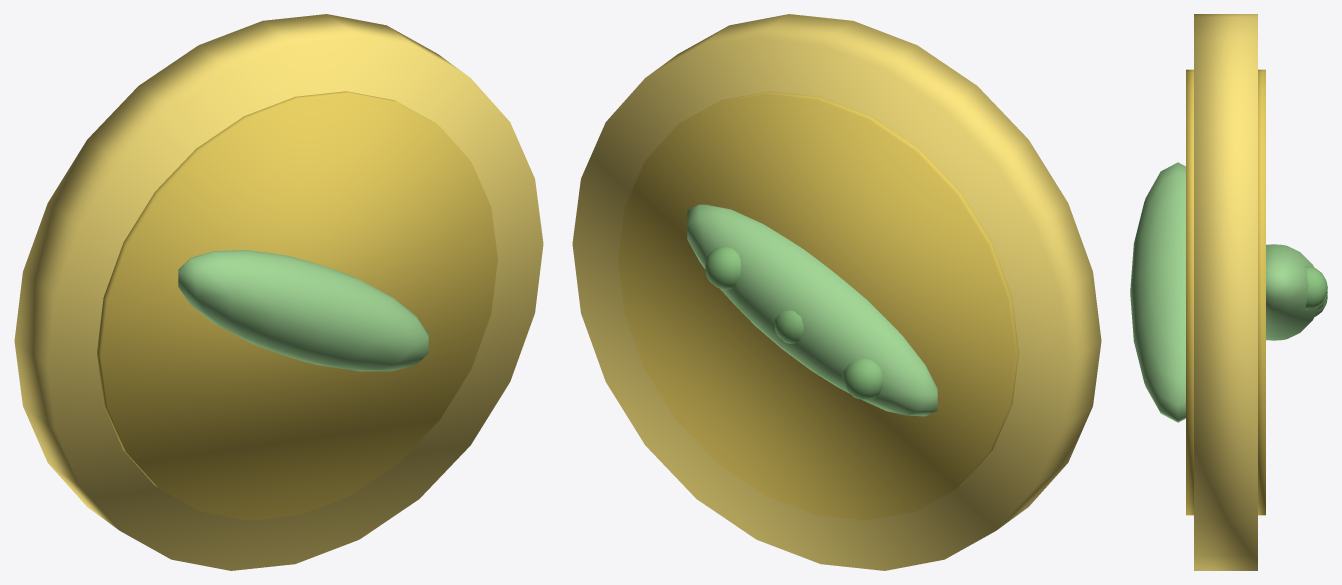
Rendered from RedemptionToken.fbx.
3 renders of one model, left to right at view 1: azimuth 30°, elevation 25°; view 2: azimuth 150°, elevation 25°; view 3: azimuth 270°, elevation 25°, orthographic. The views are drawn at different scales.
Visible parts, largest first — view 1: RedemptionToken.FaceBack, RedemptionToken.Coin, RedemptionToken.CucumberBack; view 2: RedemptionToken.FaceFront, RedemptionToken.Coin, RedemptionToken.Cucumber, RedemptionToken.Bump1, RedemptionToken.Bump3, RedemptionToken.Bump2; view 3: RedemptionToken.Coin, RedemptionToken.CucumberBack, RedemptionToken.Cucumber, RedemptionToken.FaceBack, RedemptionToken.FaceFront, RedemptionToken.Bump3.
Boxes of the visible parts, bbox=[...] form: RedemptionToken.FaceBack: bbox=[97, 91, 497, 520]; RedemptionToken.Coin: bbox=[14, 14, 543, 570]; RedemptionToken.CucumberBack: bbox=[178, 250, 428, 371]; RedemptionToken.FaceFront: bbox=[618, 91, 1018, 520]; RedemptionToken.Coin: bbox=[572, 14, 1101, 570]; RedemptionToken.Cucumber: bbox=[687, 204, 937, 416]; RedemptionToken.Bump1: bbox=[842, 359, 883, 399]; RedemptionToken.Bump3: bbox=[705, 246, 740, 289]; RedemptionToken.Bump2: bbox=[774, 310, 803, 343]; RedemptionToken.Coin: bbox=[1194, 14, 1257, 570]; RedemptionToken.CucumberBack: bbox=[1130, 162, 1185, 422]; RedemptionToken.Cucumber: bbox=[1266, 244, 1318, 340]; RedemptionToken.FaceBack: bbox=[1186, 69, 1193, 515]; RedemptionToken.FaceFront: bbox=[1258, 69, 1265, 515]; RedemptionToken.Bump3: bbox=[1305, 266, 1327, 309].
Size of the model in its own units: 1.4 by 1.4 by 0.495.
